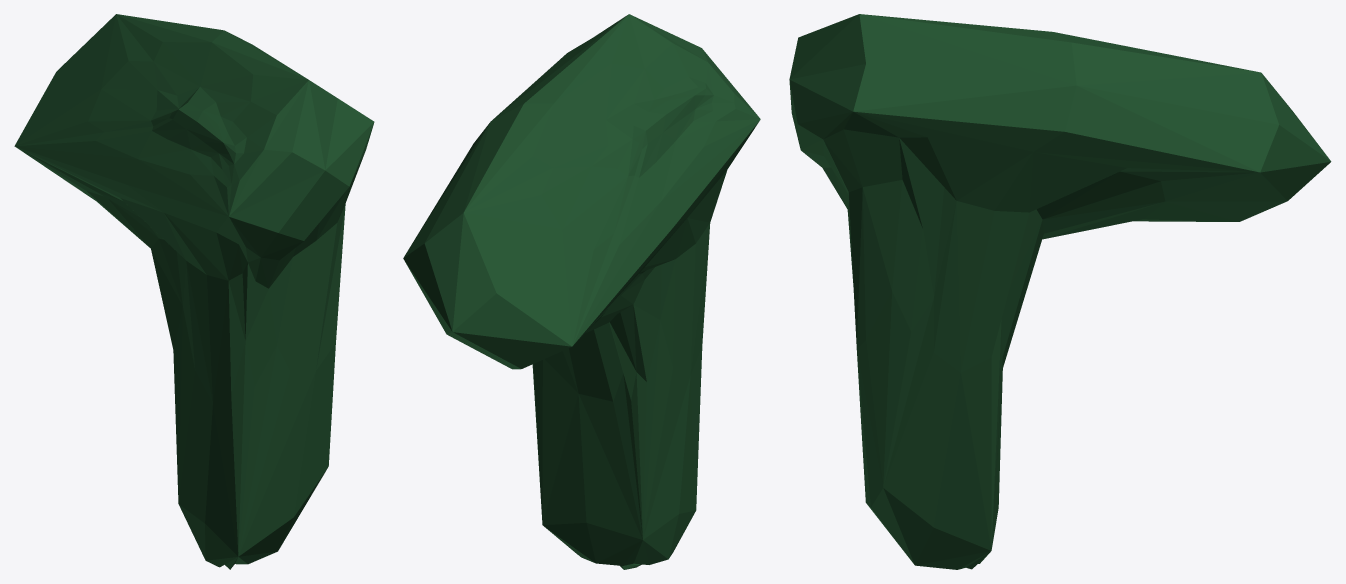
The picture shows the model from 3 angles, left to right: view 1: azimuth 30°, elevation 25°; view 2: azimuth 150°, elevation 25°; view 3: azimuth 270°, elevation 25°; orthographic projection. The views are drawn at different scales.
Parts seen in each view (by area): view 1: 883_Cube.3569; view 2: 883_Cube.3569; view 3: 883_Cube.3569.
Boxes of the visible parts, x1,y1,x2,y2 form: 883_Cube.3569: [14, 14, 374, 569]; 883_Cube.3569: [403, 14, 760, 569]; 883_Cube.3569: [789, 14, 1331, 569].
Bounding box in the file's own units: 5.22 × 13.62 × 11.79.
